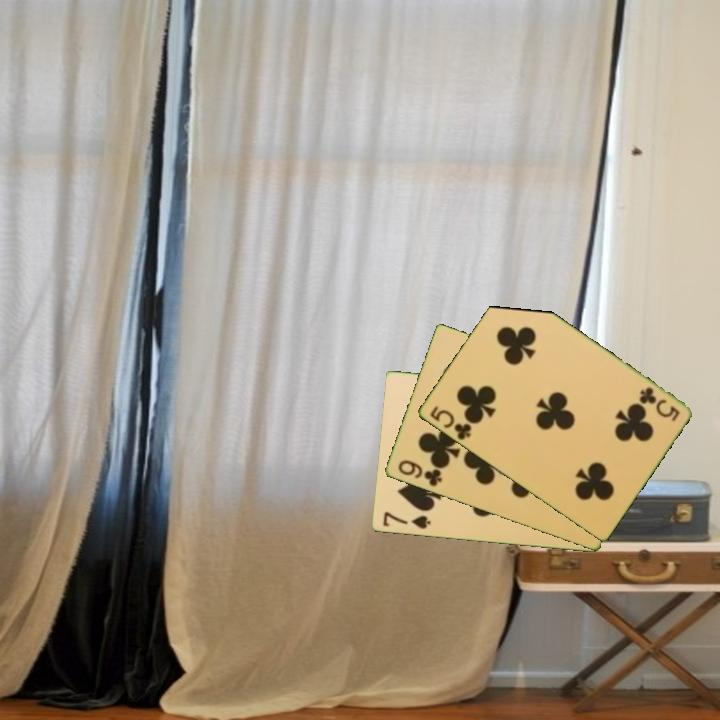5c: (426, 402, 474, 443), (635, 384, 682, 425)
7s: (379, 509, 433, 532)
9c: (394, 456, 445, 489)
